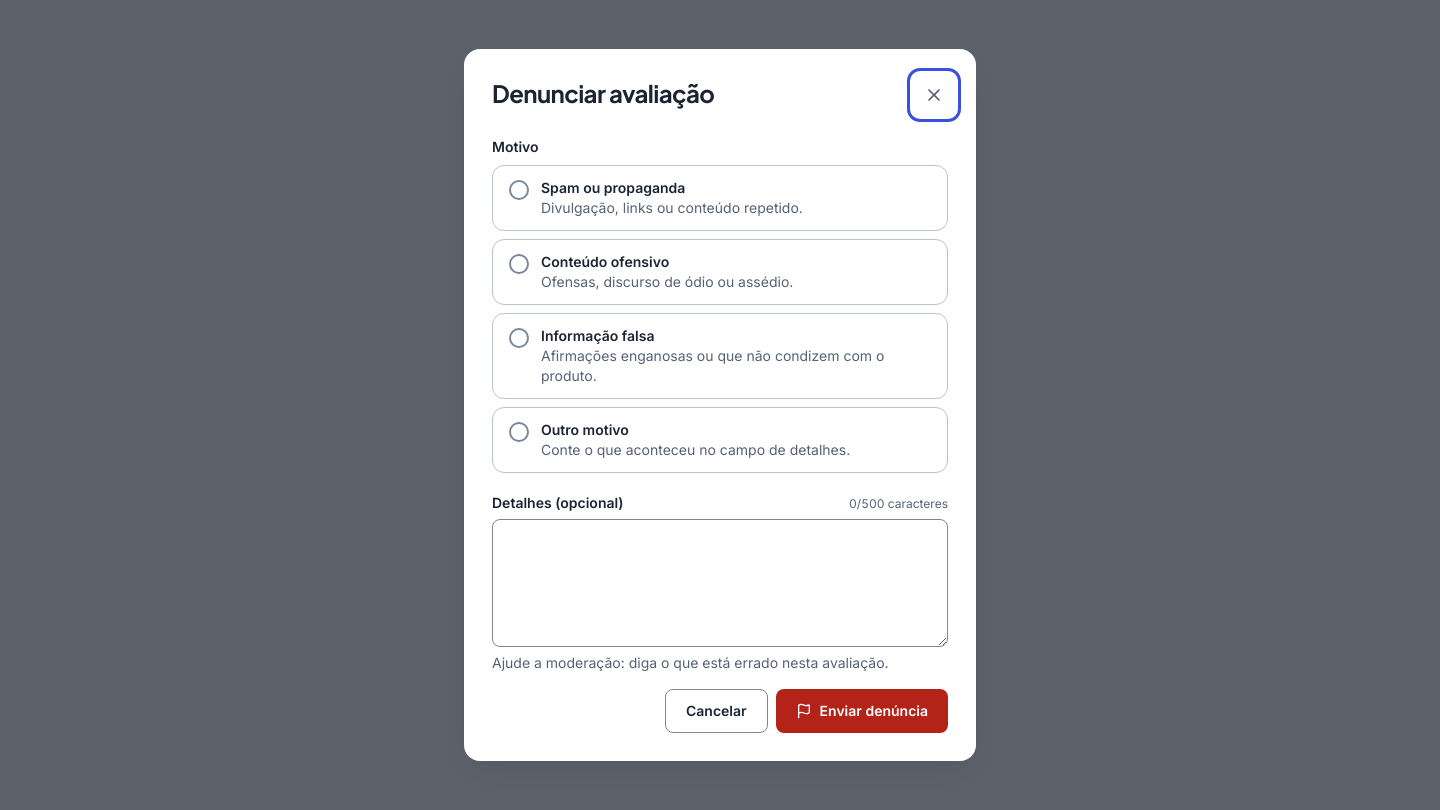
it: Modal de denúncia › lista os motivos da spec e exige um motivo
Expected: the dialog "Denunciar avaliação" is shown, left=464, top=49, right=976, bottom=761
Expected: the radio button labelled "Spam ou propaganda" is shown, left=492, top=165, right=948, bottom=231
Click the button "Enviar denúncia" at (862, 711), box left=776, top=689, right=948, bottom=733
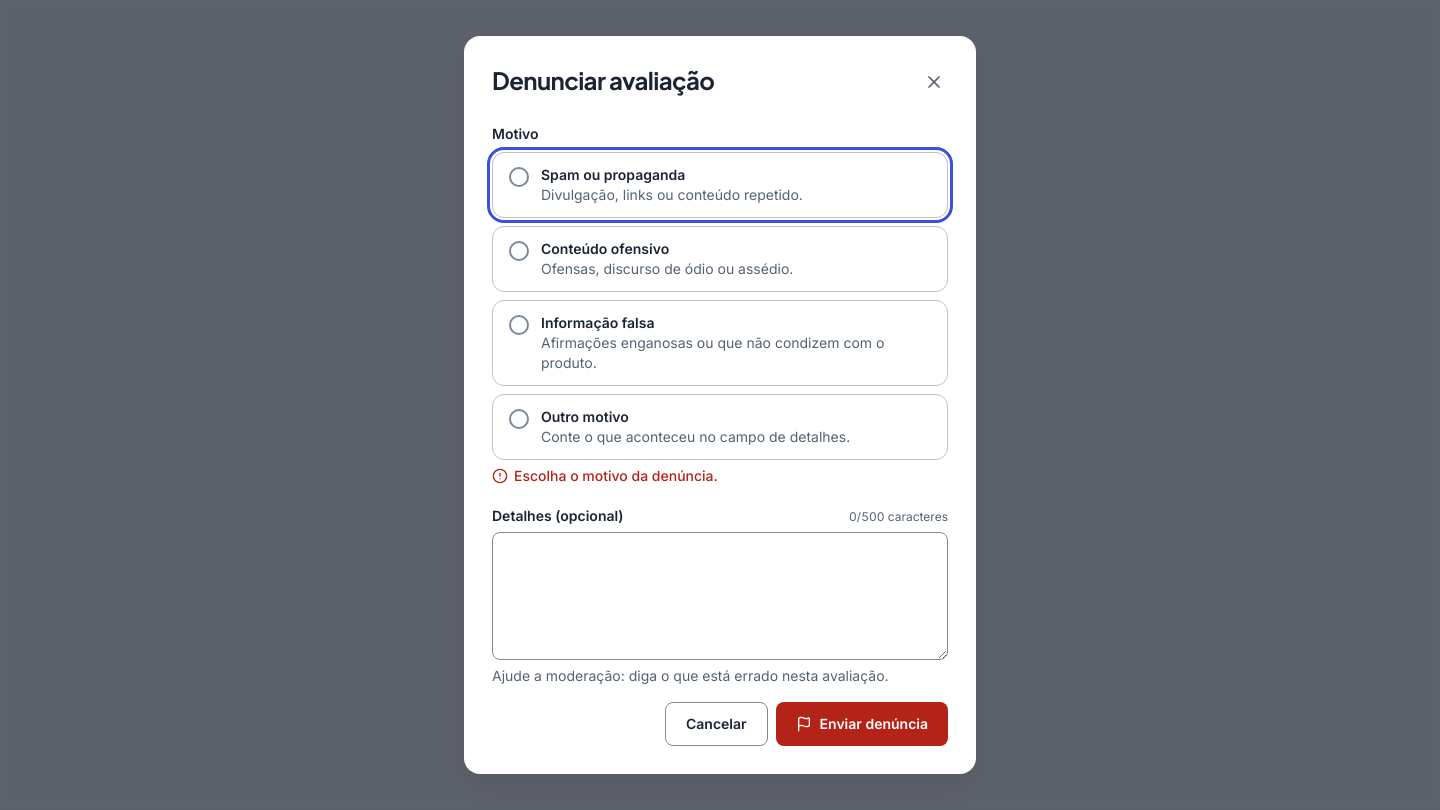
Now the text "Escolha o motivo da denúncia." is shown, box left=514, top=466, right=718, bottom=486
